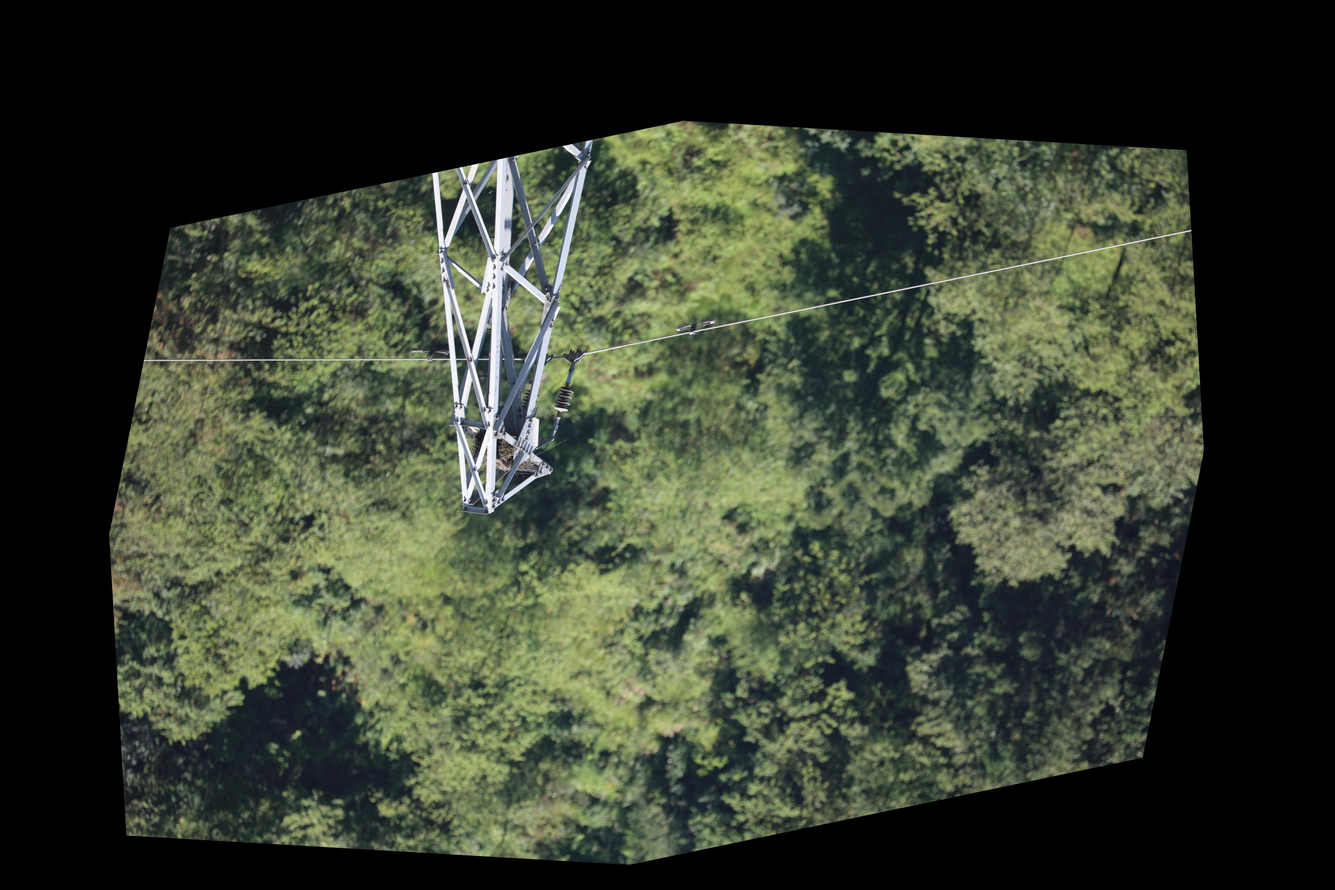damper: (671, 306, 719, 347), (406, 336, 452, 373)
